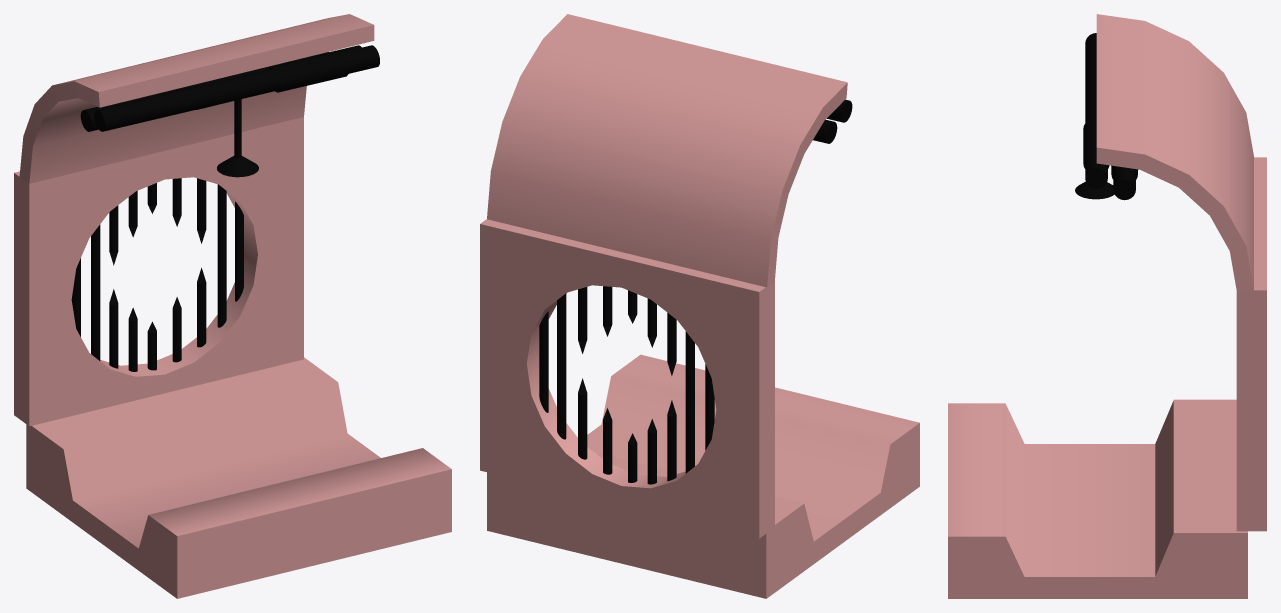
File: sewer_room9.fbx
3 views of the same model, side by side, from view 1: azimuth 30°, elevation 25°; view 2: azimuth 150°, elevation 25°; view 3: azimuth 270°, elevation 25° (orthographic). The views are drawn at different scales.
Visible parts, largest first — view 1: room9_walls, room9_metal; view 2: room9_walls, room9_metal; view 3: room9_walls, room9_metal.
Boxes of the visible parts, box(x1,y1,x2,y2) form: room9_walls: box(14, 14, 451, 598); room9_metal: box(71, 45, 379, 371); room9_walls: box(480, 14, 919, 598); room9_metal: box(539, 99, 852, 484); room9_walls: box(948, 14, 1266, 598); room9_metal: box(1075, 33, 1138, 200).
Size of the model in its own units: 2.03 by 3.15 by 2.02.
